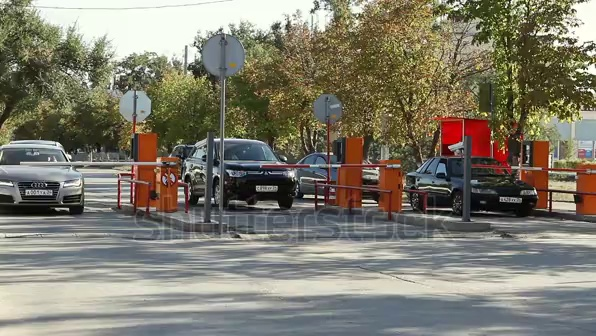licenseplate: (90, 202, 132, 217), (500, 192, 524, 207), (252, 184, 279, 191)
